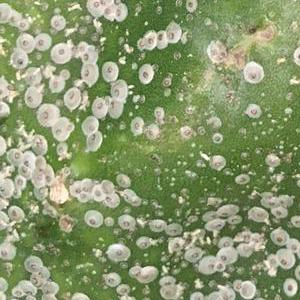Femea: (54, 122, 69, 137), (162, 279, 174, 297), (110, 248, 126, 260), (165, 24, 175, 43), (40, 109, 53, 123), (17, 36, 31, 49), (139, 67, 151, 82), (22, 282, 37, 294), (65, 88, 76, 104), (278, 252, 289, 268), (153, 30, 163, 47), (92, 100, 105, 113), (85, 132, 98, 145), (85, 212, 98, 225), (12, 54, 26, 66), (218, 205, 232, 217), (246, 65, 257, 80), (87, 0, 100, 12), (102, 5, 114, 18), (202, 259, 214, 272), (218, 252, 233, 262), (103, 64, 115, 76), (286, 240, 298, 252), (128, 265, 140, 277), (55, 46, 66, 59), (9, 150, 20, 163), (82, 64, 92, 78), (93, 187, 103, 201), (42, 169, 52, 183), (26, 93, 37, 105), (247, 104, 258, 116), (20, 164, 32, 175), (69, 184, 81, 195), (81, 182, 92, 194), (110, 100, 120, 113), (35, 38, 48, 48), (211, 158, 224, 168), (105, 274, 118, 284), (26, 261, 39, 271), (151, 269, 161, 282), (111, 84, 122, 95), (49, 79, 60, 90), (10, 186, 21, 197), (82, 52, 94, 62), (0, 246, 10, 258), (130, 119, 140, 131), (25, 152, 35, 164), (83, 121, 96, 130), (0, 181, 9, 194), (103, 196, 116, 205), (274, 231, 283, 244), (77, 193, 90, 202), (35, 267, 48, 276), (146, 127, 155, 140), (29, 276, 43, 284), (9, 207, 19, 218), (114, 6, 124, 17), (43, 284, 54, 294), (103, 183, 114, 193), (285, 282, 294, 294), (115, 285, 127, 294), (34, 186, 46, 195), (146, 34, 154, 47), (121, 216, 129, 229), (14, 176, 24, 186), (136, 38, 145, 49), (276, 197, 285, 208), (218, 240, 232, 247), (136, 238, 148, 246), (272, 209, 284, 217), (12, 286, 21, 296), (266, 199, 276, 208), (55, 143, 63, 153), (17, 21, 27, 29), (215, 262, 225, 270), (150, 222, 161, 229), (154, 107, 161, 117), (236, 176, 246, 183), (96, 0, 109, 5), (212, 135, 221, 142)
Macho: (215, 281, 226, 292), (65, 3, 82, 10), (61, 27, 78, 34), (197, 155, 205, 167), (189, 227, 201, 235), (134, 222, 140, 232), (204, 235, 210, 245), (42, 81, 47, 93)
